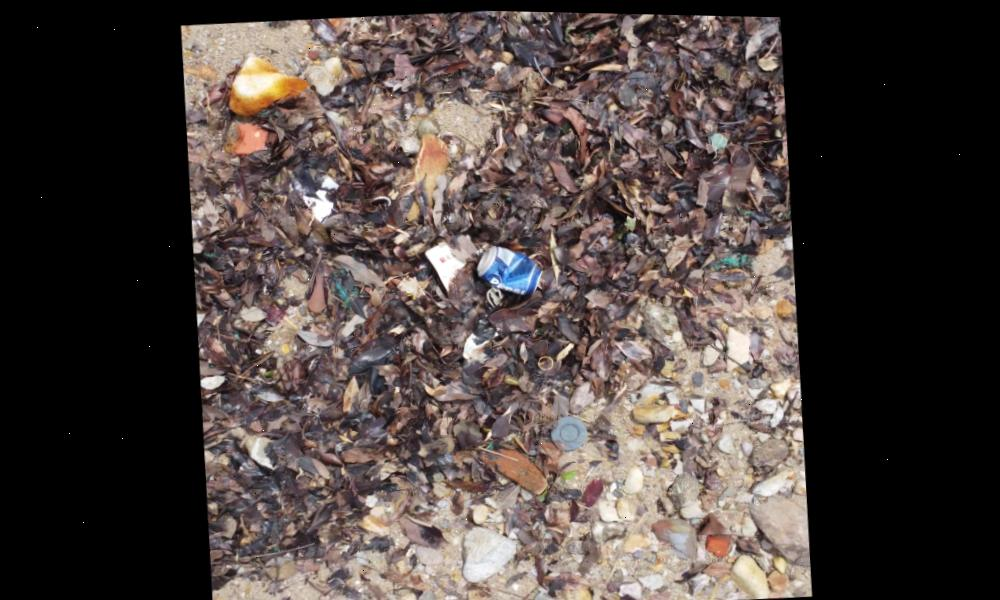can: (477, 243, 540, 294)
